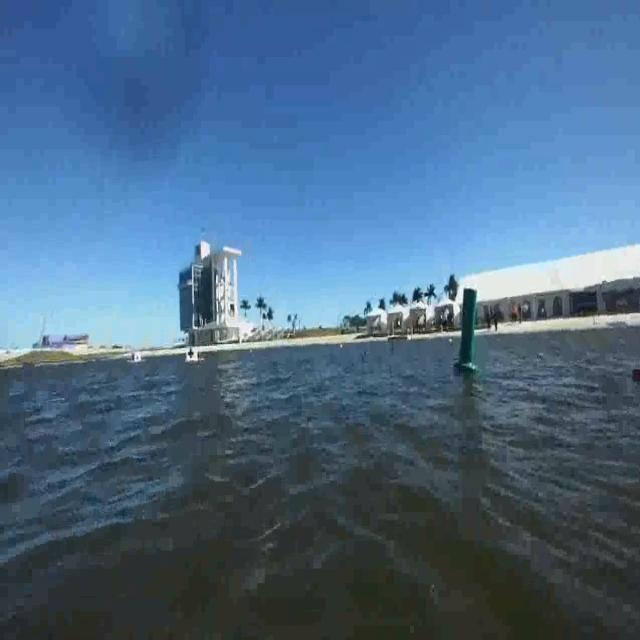green-column-buoy: (456, 285, 481, 377)
